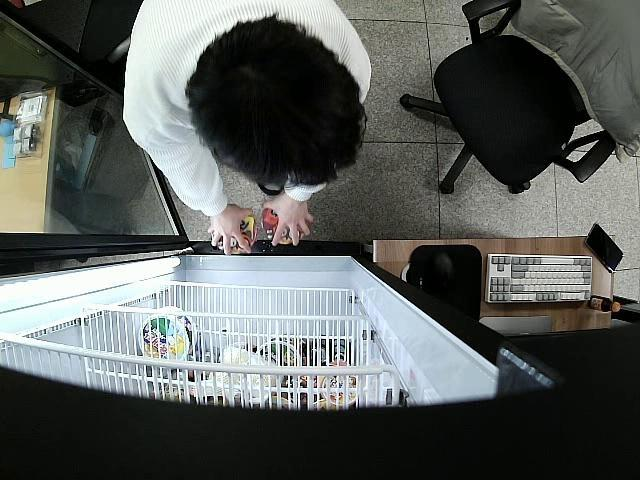05_nuguri_L: (210, 204, 256, 253), (264, 206, 304, 245)
